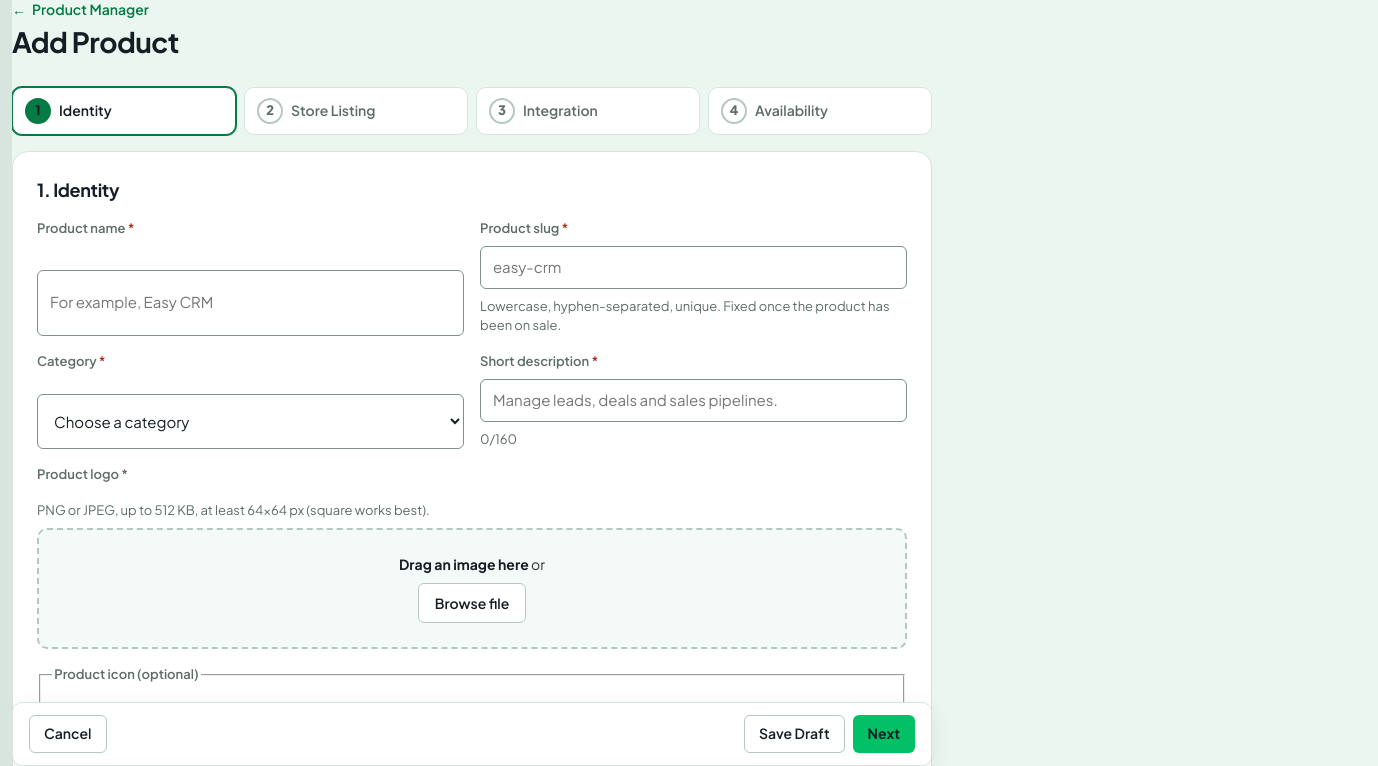
Test: Add Product wizard › a server refusal is shown and nothing claims success
Type "Scratch Pad" into the field labelled "Product name *".
click(250, 302); type("Scratch Pad")  # box [37,270,464,336]
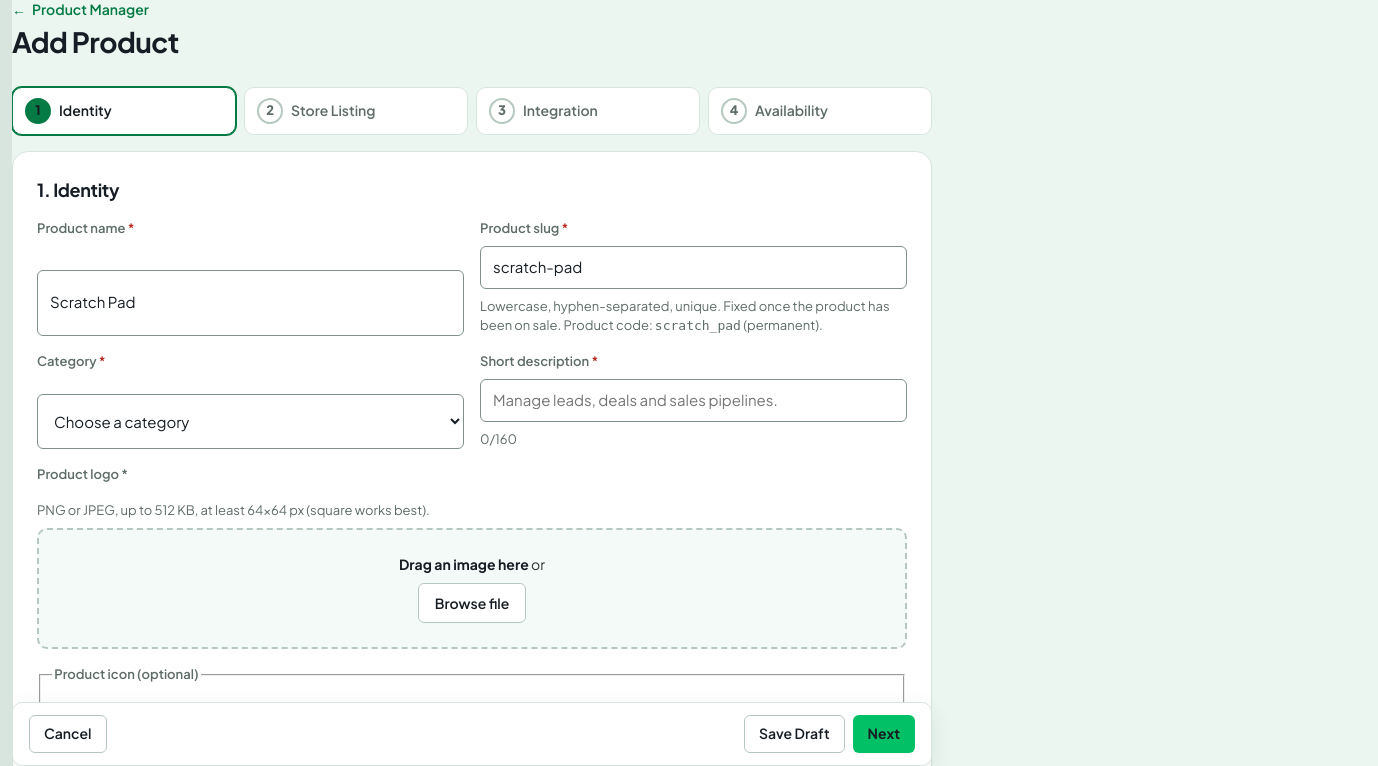
Click the button "Save Draft".
click(794, 734)  # box [744,715,845,753]
(page scrolled)
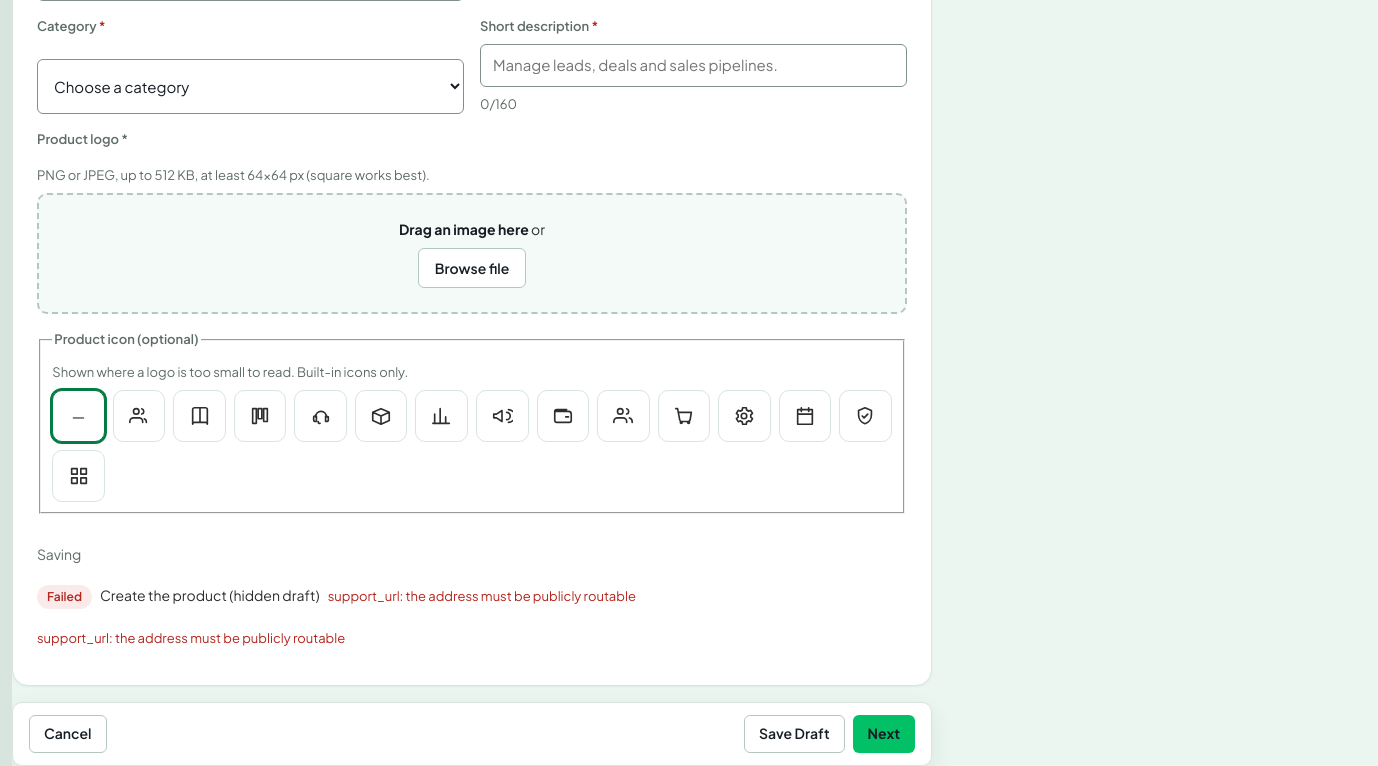
Now the text "support_url: the address must be publicly routable" is shown, box [37,630,345,646]
